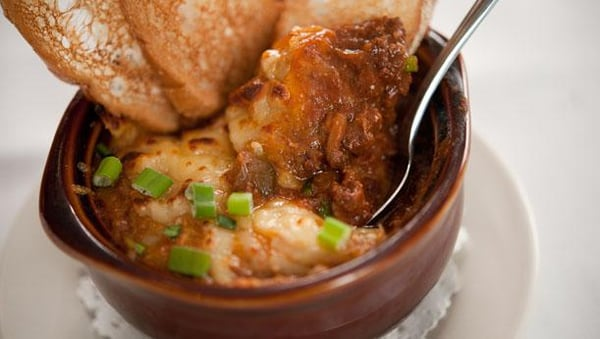soup: (0, 2, 286, 137)
sushi: (24, 1, 472, 335)
